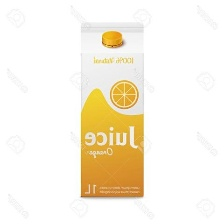carton: (73, 17, 148, 202)
